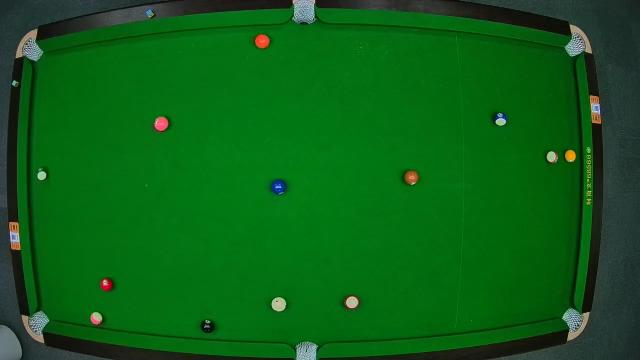bag1: (22, 39, 42, 63)
bag2: (292, 0, 316, 26)
bag3: (566, 34, 586, 56)
bag4: (28, 309, 48, 333)
bag5: (295, 340, 319, 360)
bag6: (562, 309, 582, 331)
ball0: (271, 297, 287, 311)
ball1: (565, 150, 577, 162)
ball10: (493, 110, 507, 126)
ball11: (346, 294, 358, 310)
ball12: (90, 310, 104, 326)
ball14: (36, 166, 49, 182)
ball15: (546, 150, 558, 164)
ball2: (270, 178, 286, 196)
ball3: (100, 278, 112, 290)
ball4: (154, 116, 170, 132)
ball5: (256, 34, 270, 48)
ball7: (404, 170, 418, 186)
ball8: (200, 318, 216, 334)
